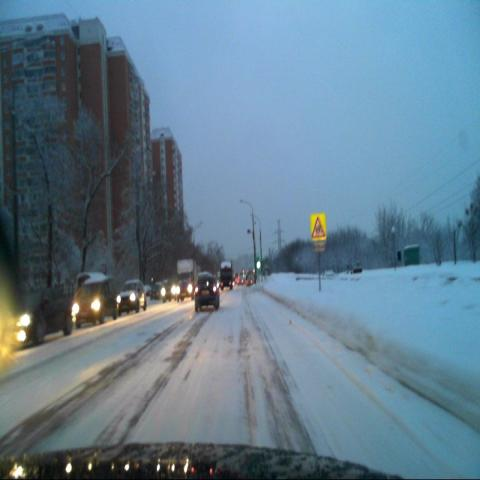1_23: (311, 212, 327, 240)
